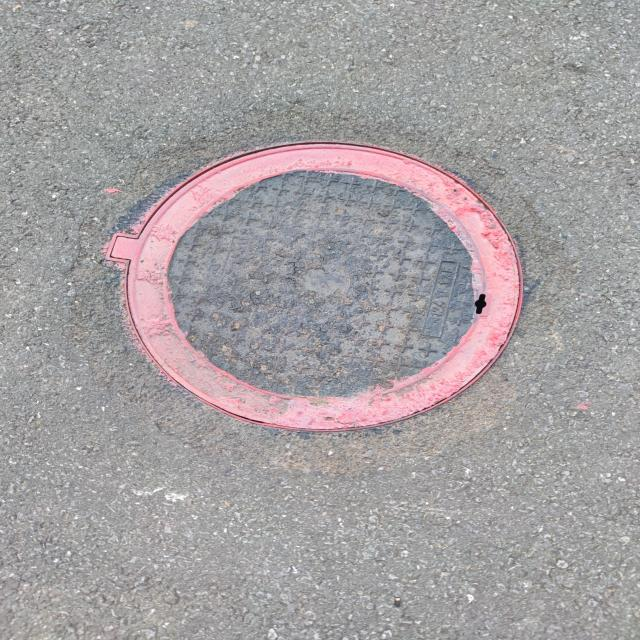Good: (100, 142, 528, 438)
